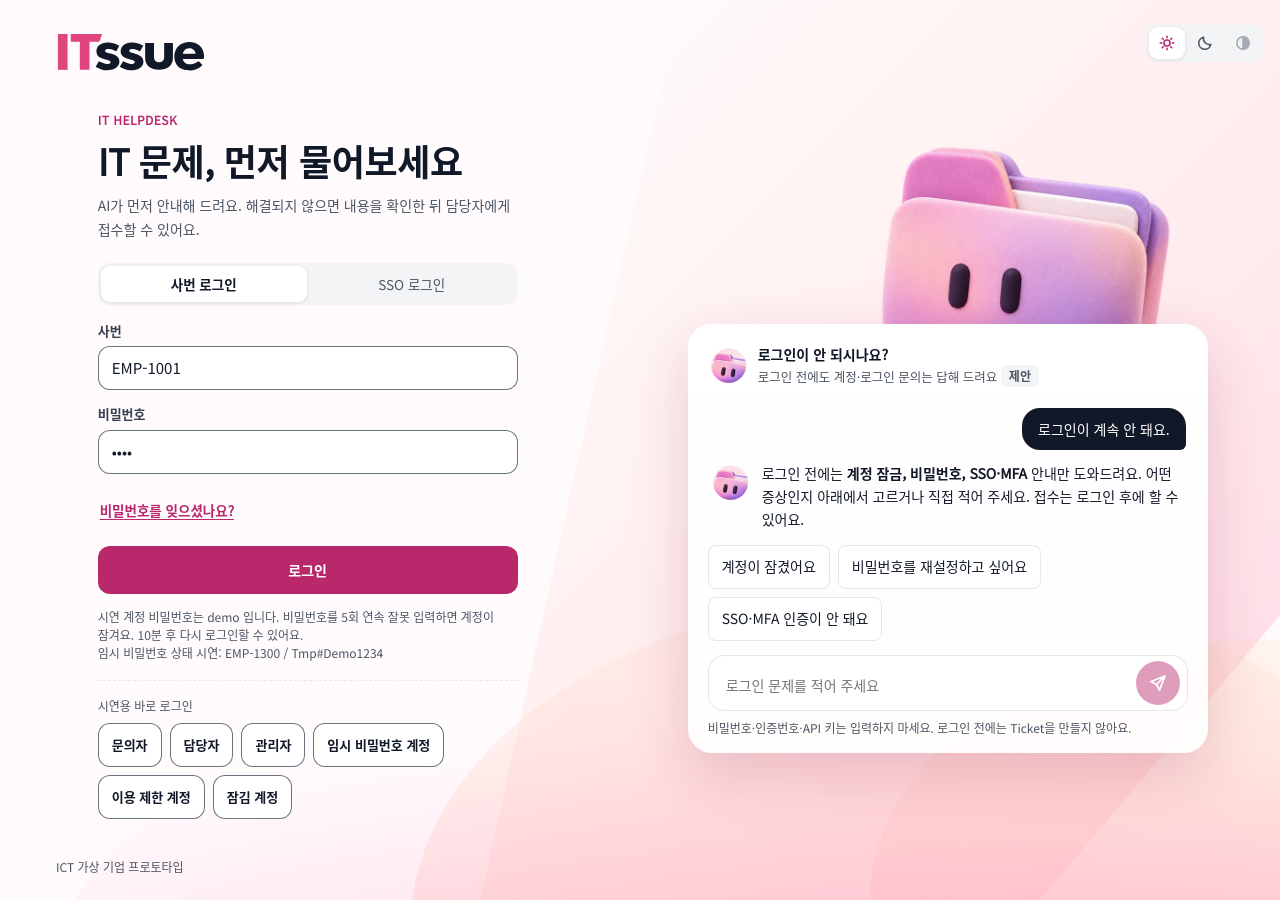
Test: 비밀번호를 잊으셨나요? 안내와 모달 초점 › 로그인 전 상담의 비밀번호 답변에서도 같은 창을 열 수 있고, 입력한 값은 가려서 보인다
Click the button "비밀번호를 재설정하고 싶어요" at (939, 566), box [838,544,1041,588]
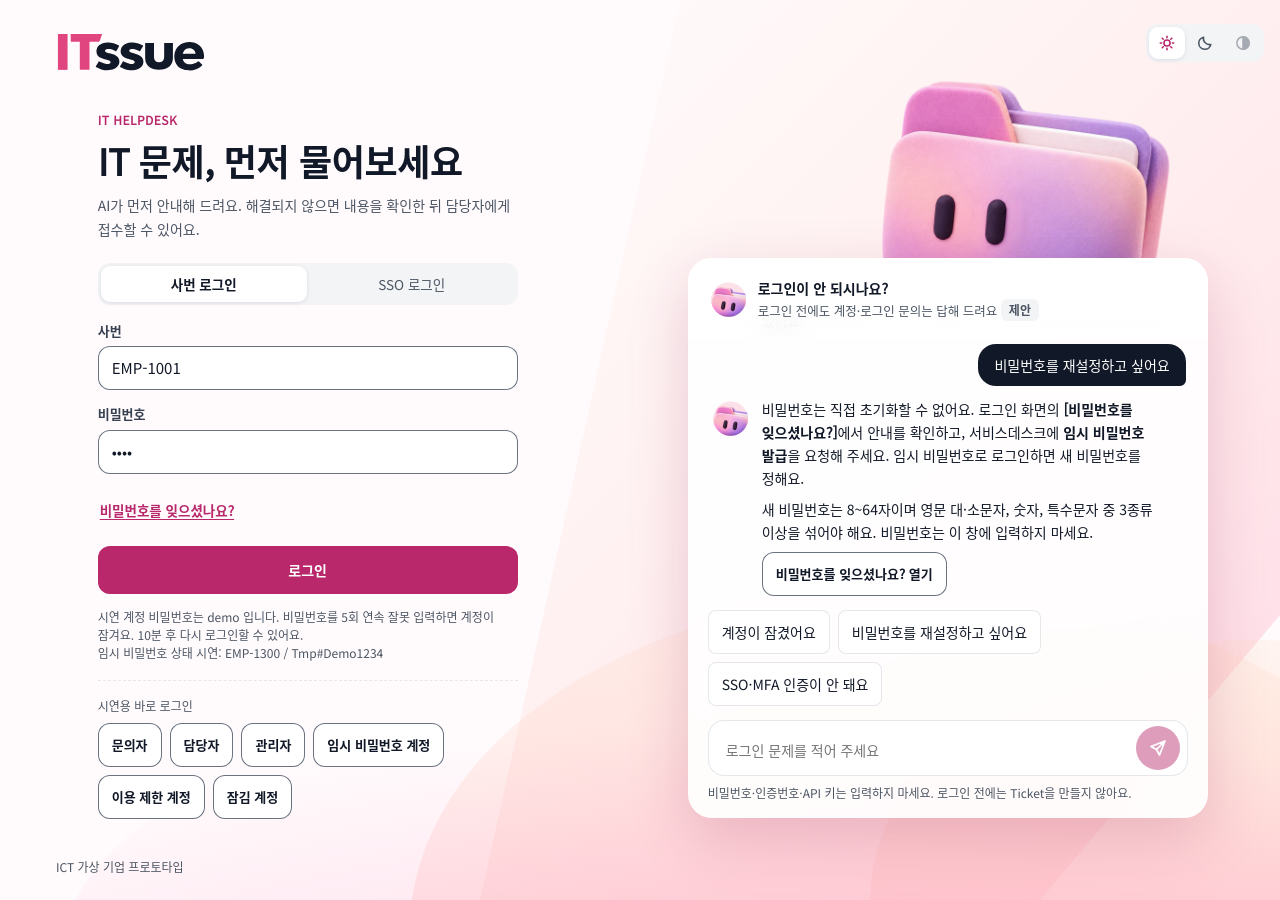
Click the button "비밀번호를 잊으셨나요? 열기" at (854, 574), box [762,552,947,596]
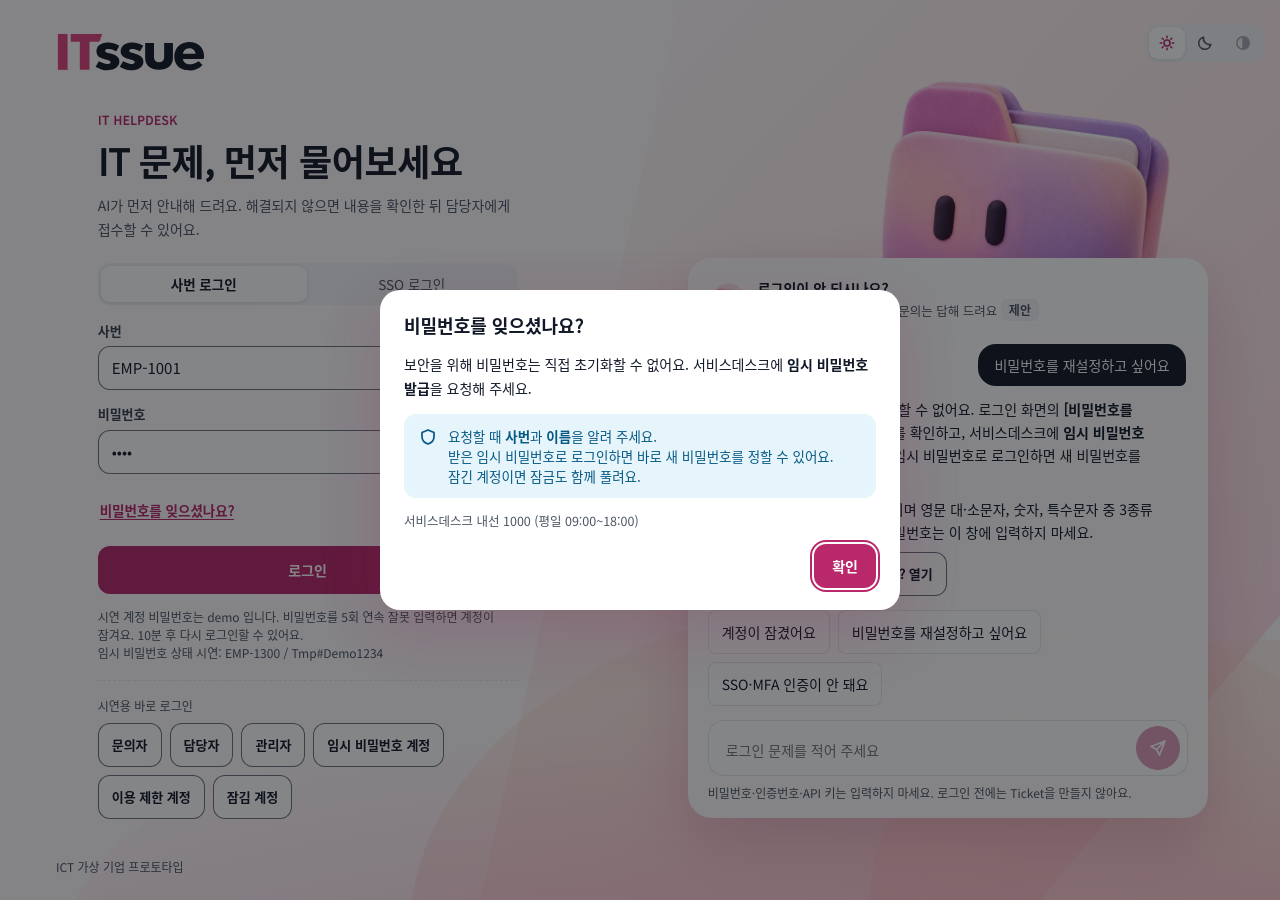
Now the dialog "비밀번호를 잊으셨나요?" is shown, box [380,290,900,610]
Press Escape
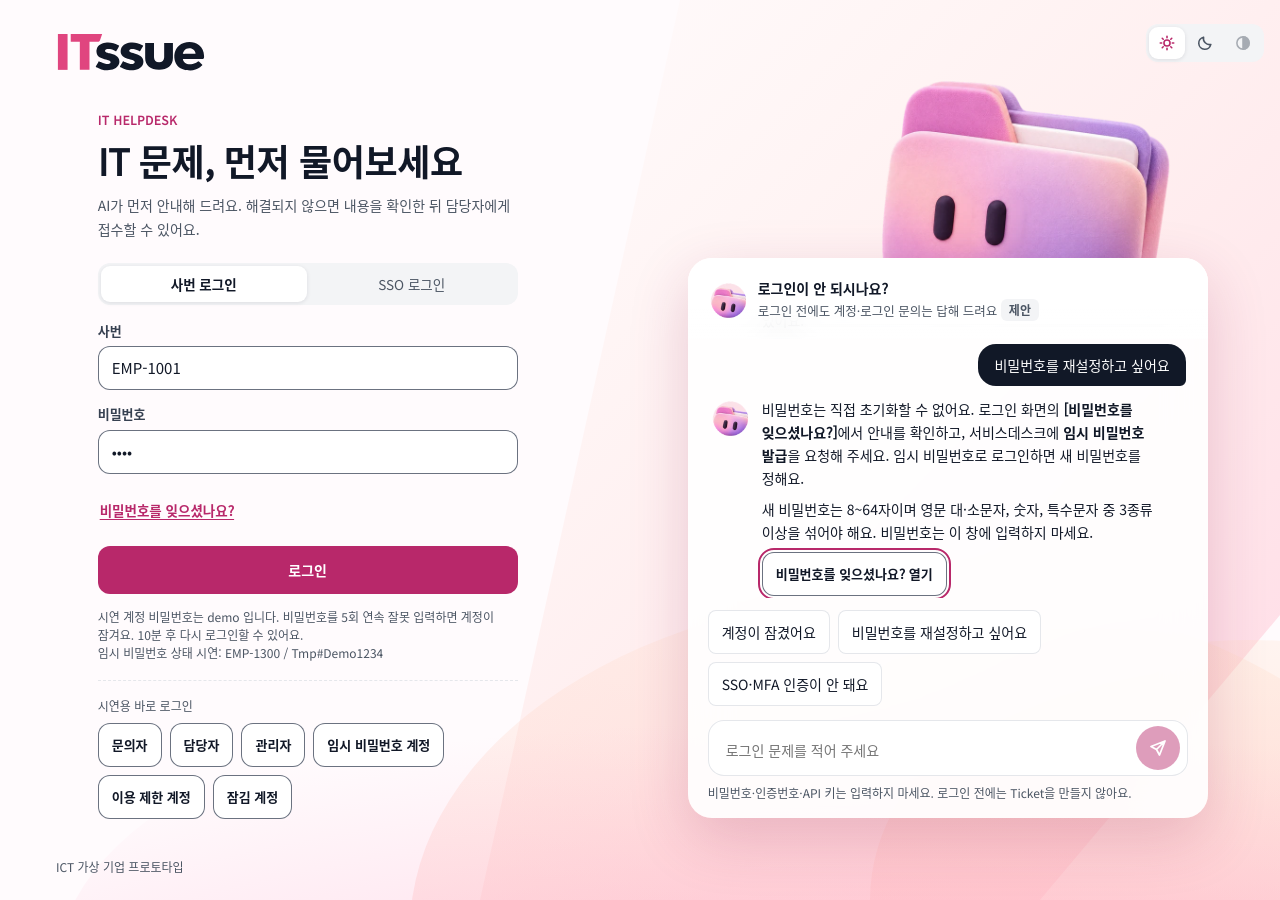
Type "비밀번호는 abc12345 입니다" into the text box named "로그인 전 상담 입력" at (926, 750), box [722,730,1130,770]
Then press Enter
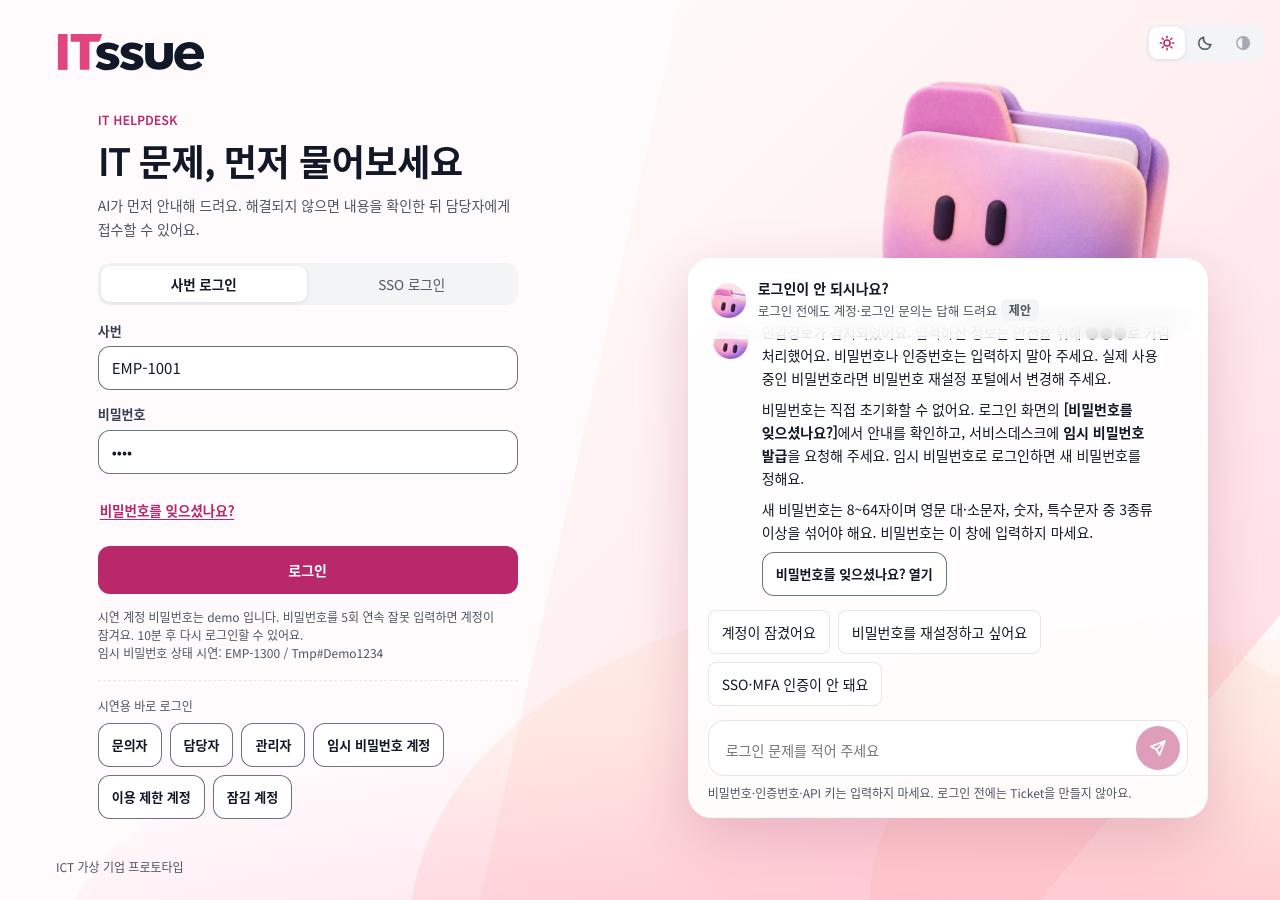
Now the text "가림 처리했어요" is shown, box [762,322,1170,388]
